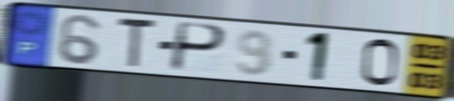0: (361, 36, 400, 88)
1: (301, 31, 332, 86)
6: (55, 12, 102, 67)
9: (235, 28, 278, 78)
P: (167, 20, 228, 74)
T: (116, 15, 159, 70)
